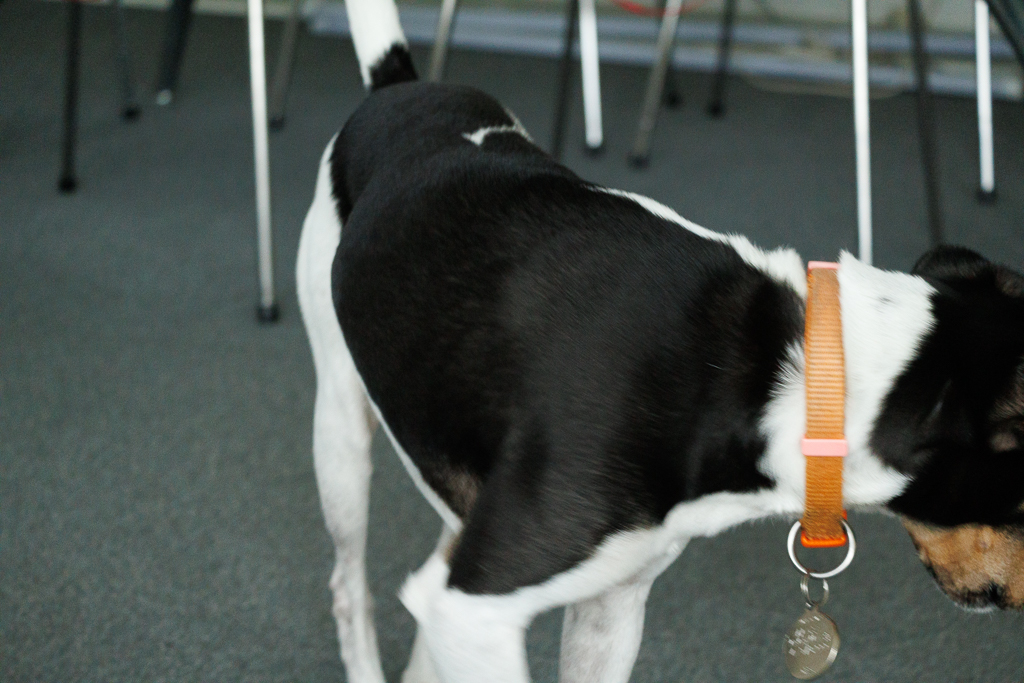Dog: (280, 0, 1024, 683)
